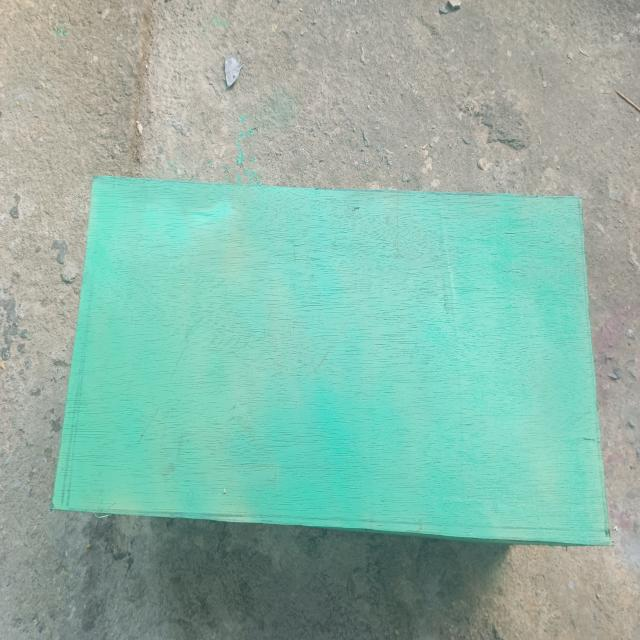green_box: (46, 153, 620, 581)
